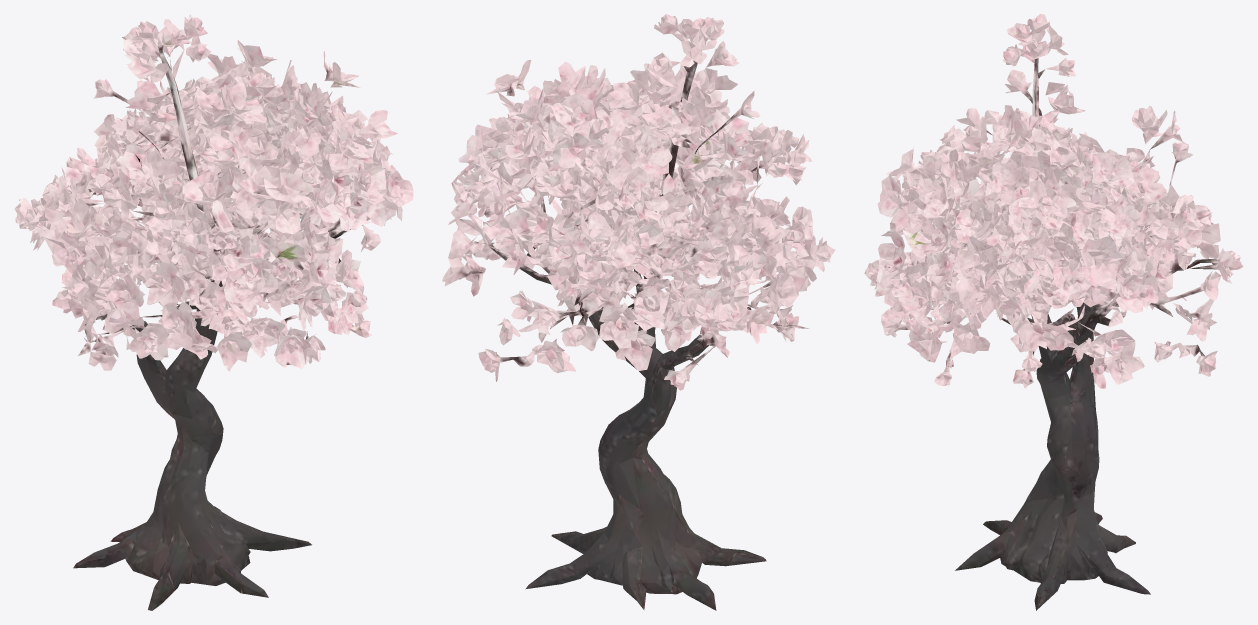
Rendered from lib_blossom.glb.
3 renders of one model, left to right at view 1: azimuth 30°, elevation 25°; view 2: azimuth 150°, elevation 25°; view 3: azimuth 270°, elevation 25°, orthographic. The views are drawn at different scales.
Parts seen in each view (by area): view 1: output_unwrapped; view 2: output_unwrapped; view 3: output_unwrapped.
Part boxes in pixels (left/top/right/bottom): output_unwrapped: left=14, top=14, right=413, bottom=610; output_unwrapped: left=442, top=14, right=835, bottom=610; output_unwrapped: left=864, top=14, right=1243, bottom=610.
Bounding box in the file's own units: 1.26 × 2 × 1.32.
Materials: 1 (1 with a texture image).
